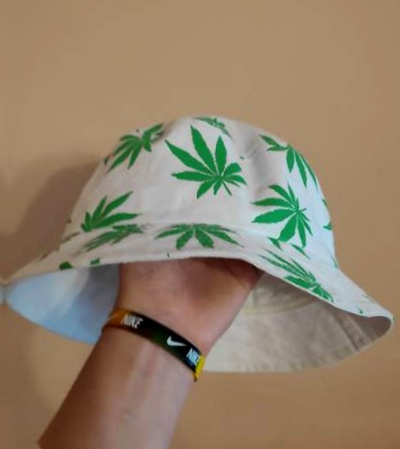Hat: (7, 89, 400, 381), (0, 73, 7, 365)
